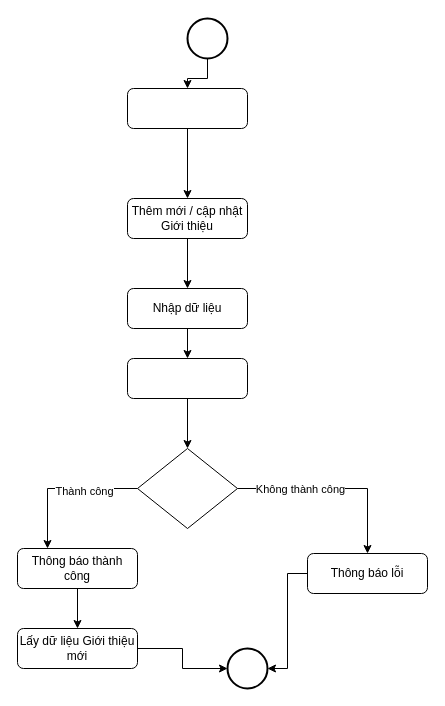
Image size: 445x706. Some labels were removed from this diagram. Each missing label, with the centre of its shape:
"Lưu" belongs at point (187, 378).
"Xem danh sách Giới thiệu" belongs at point (187, 108).
